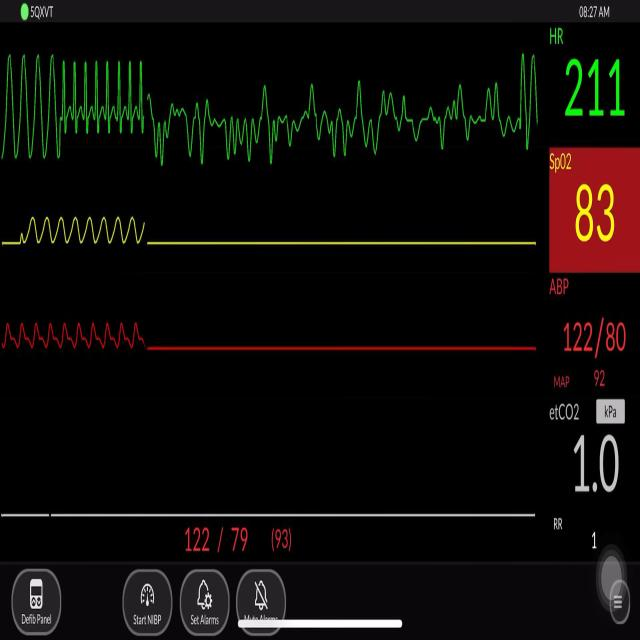danger: (57, 44, 148, 152), (0, 36, 53, 180)
